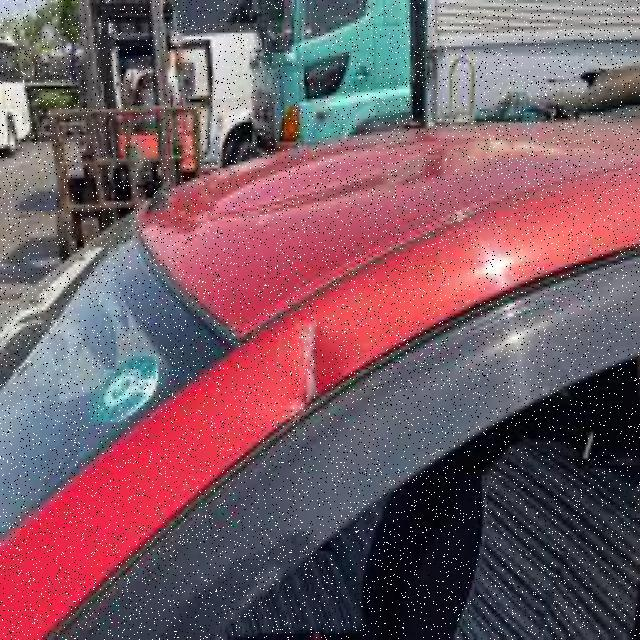roof-dent: (151, 120, 610, 434)
